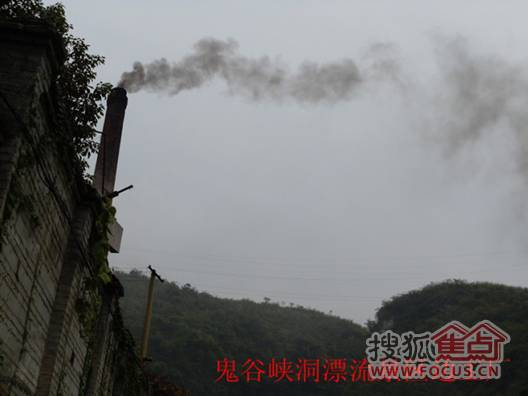dust: (102, 35, 246, 105)
